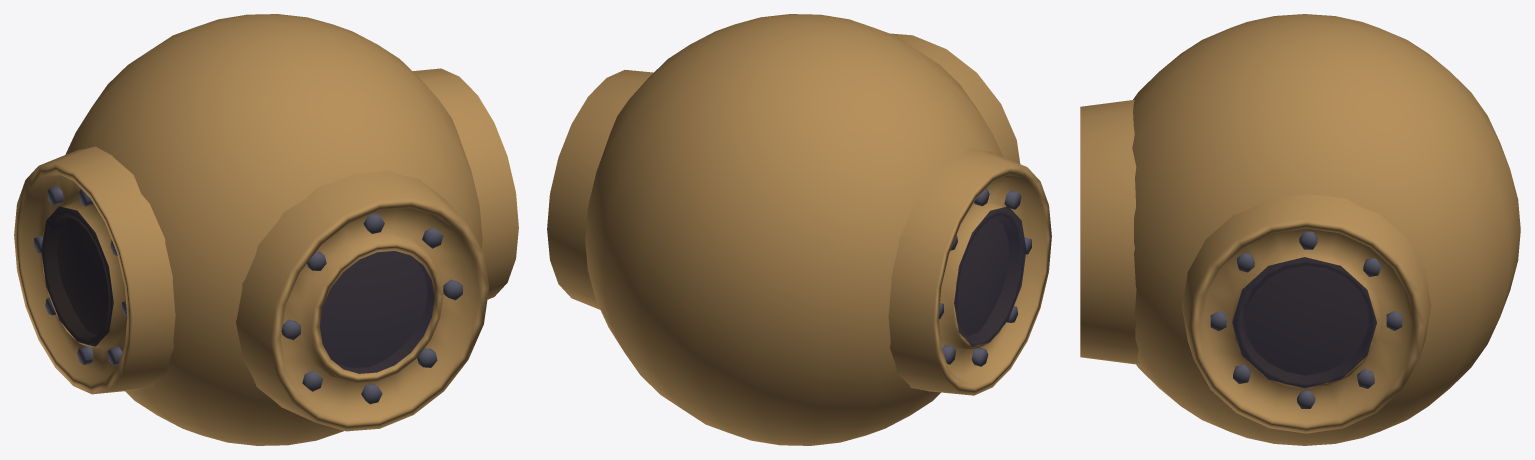
File: Body_Part_Had.fbx
3 renders of one model, left to right at view 1: azimuth 30°, elevation 25°; view 2: azimuth 150°, elevation 25°; view 3: azimuth 270°, elevation 25°, orthographic.
Parts seen in each view (by area): view 1: polySurface40; view 2: polySurface40; view 3: polySurface40.
Boxes of the visible parts, x1,y1,x2,y2 form: polySurface40: [14, 14, 518, 445]; polySurface40: [547, 14, 1051, 445]; polySurface40: [1080, 14, 1520, 445].
Bounding box in the file's own units: 37.46 × 36.36 × 37.07.
